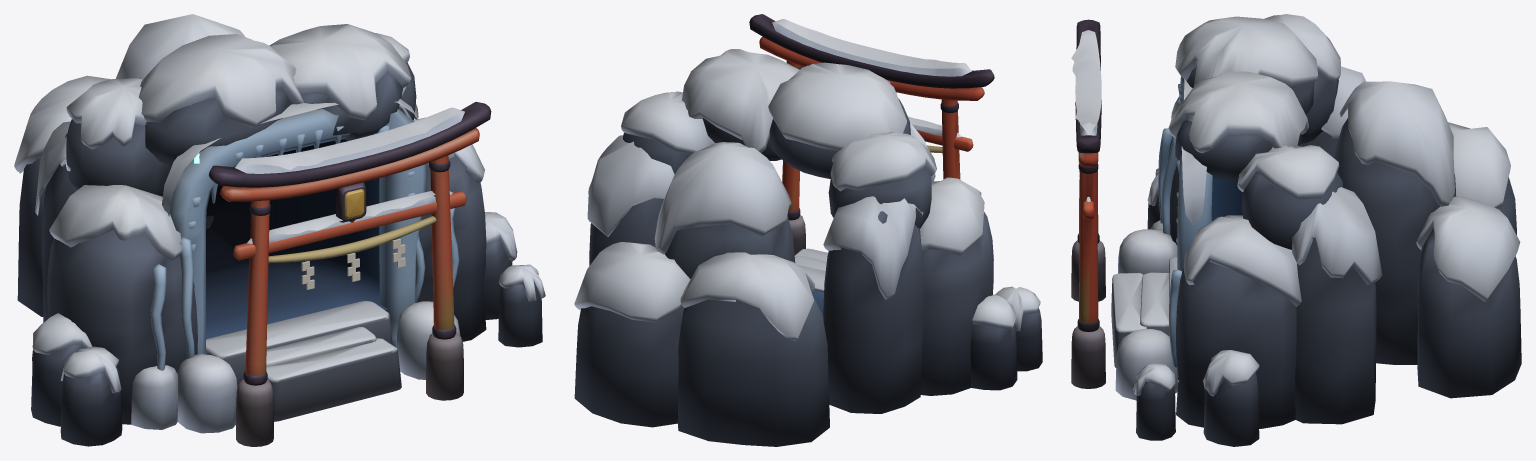
The model's file is gate-onsen.glb.
The picture shows the model from 3 angles, left to right: view 1: azimuth 30°, elevation 25°; view 2: azimuth 150°, elevation 25°; view 3: azimuth 270°, elevation 25°; orthographic projection. The views are drawn at different scales.
Parts seen in each view (by area): view 1: gate_onsen; view 2: gate_onsen; view 3: gate_onsen.
Part boxes in pixels (x1=…): gate_onsen: x1=14, y1=14, x2=545, y2=446; gate_onsen: x1=574, y1=14, x2=1042, y2=446; gate_onsen: x1=1071, y1=14, x2=1521, y2=446.
Size of the model in its own units: 7.83 by 4.92 by 6.86.
